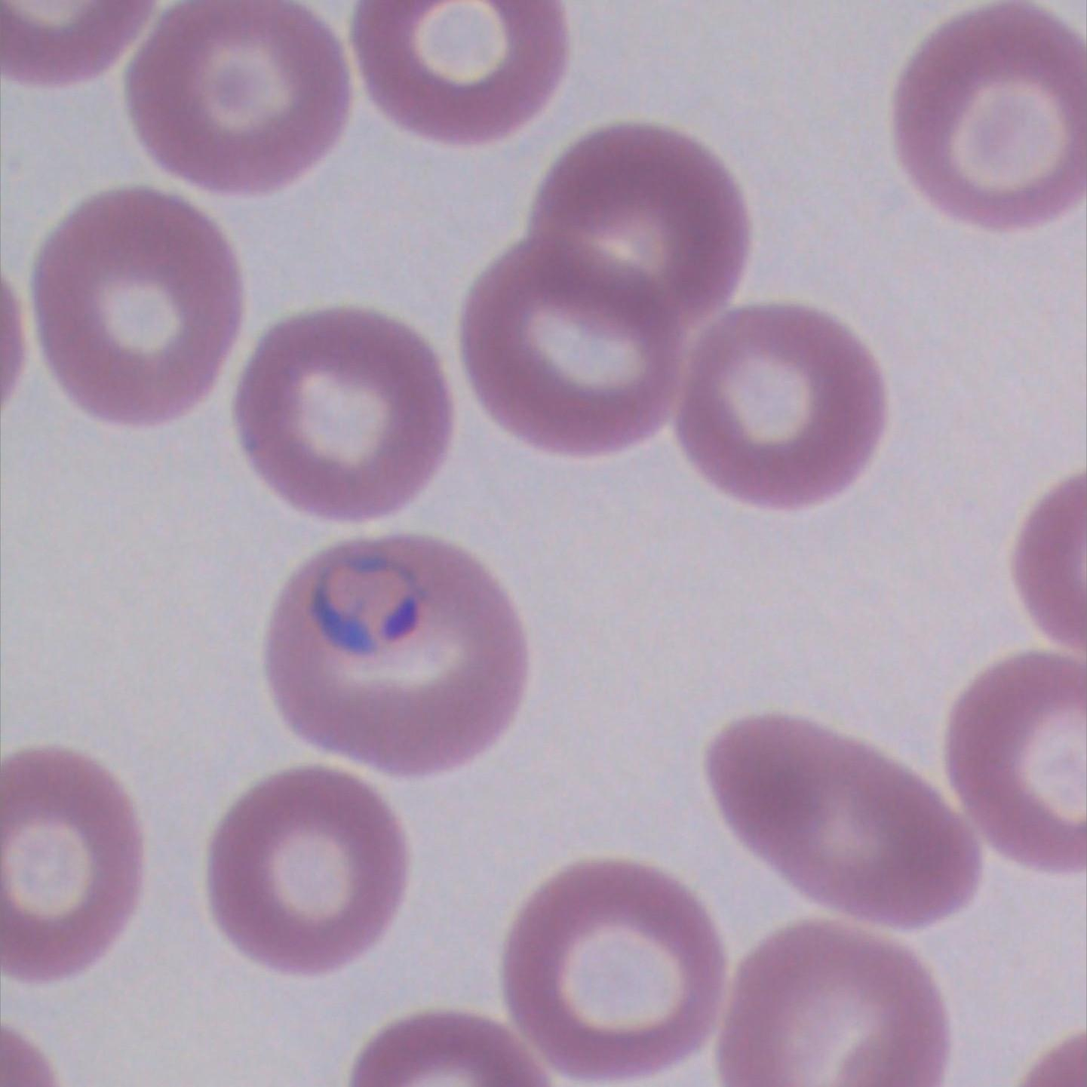Infected: (256, 534, 530, 777)
Uninfected: (704, 710, 981, 928), (30, 184, 241, 431), (526, 124, 751, 346), (500, 853, 717, 1080), (463, 242, 689, 458), (231, 310, 461, 513), (121, 0, 350, 201), (674, 298, 883, 513), (897, 0, 1087, 230), (206, 768, 411, 980), (714, 929, 949, 1087), (0, 748, 141, 983), (948, 645, 1083, 881), (355, 0, 568, 146)
